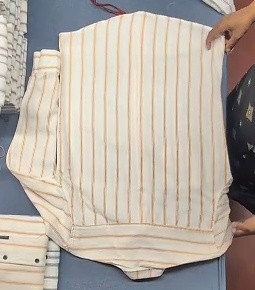SHIRT: (3, 51, 255, 245)
